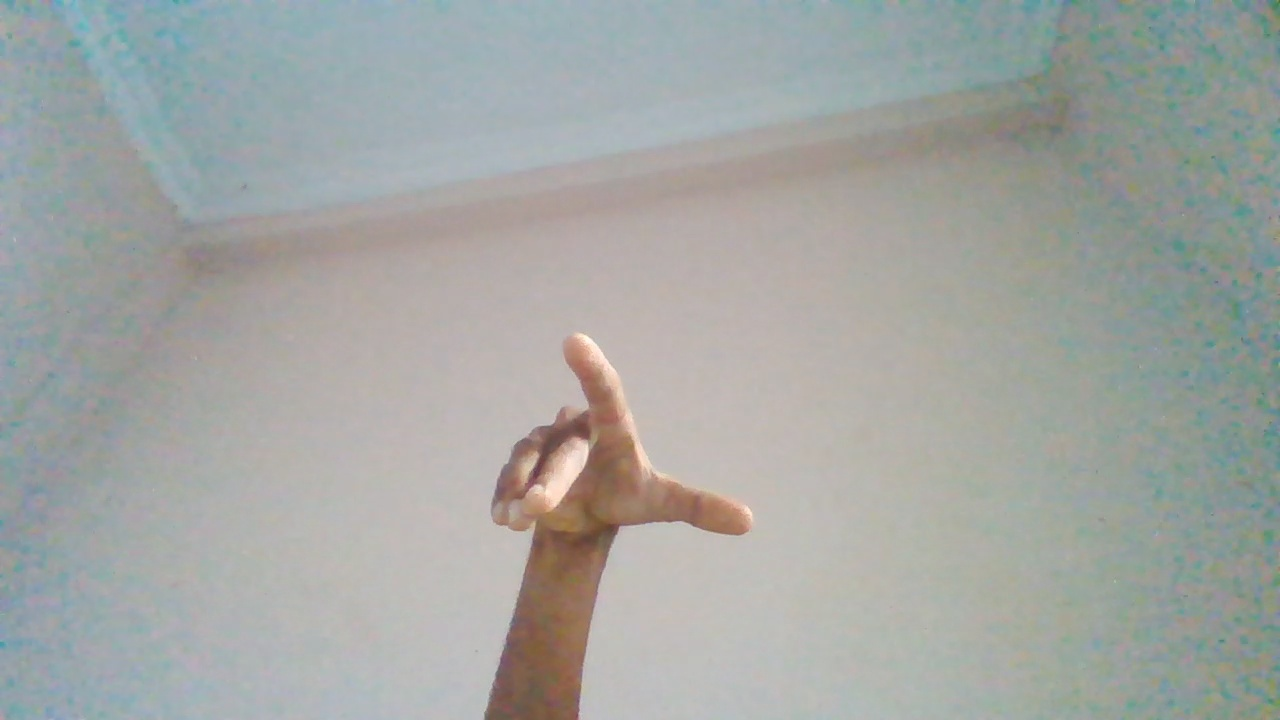ke: (485, 330, 760, 698)
